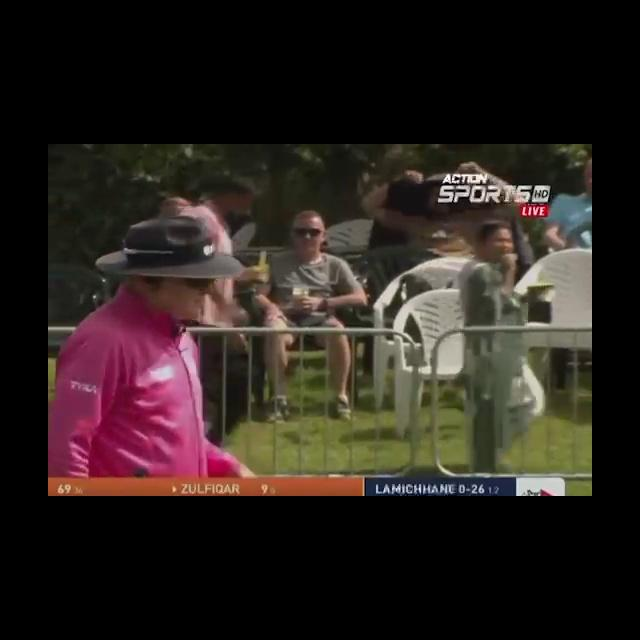umpire: (53, 164, 297, 480)
